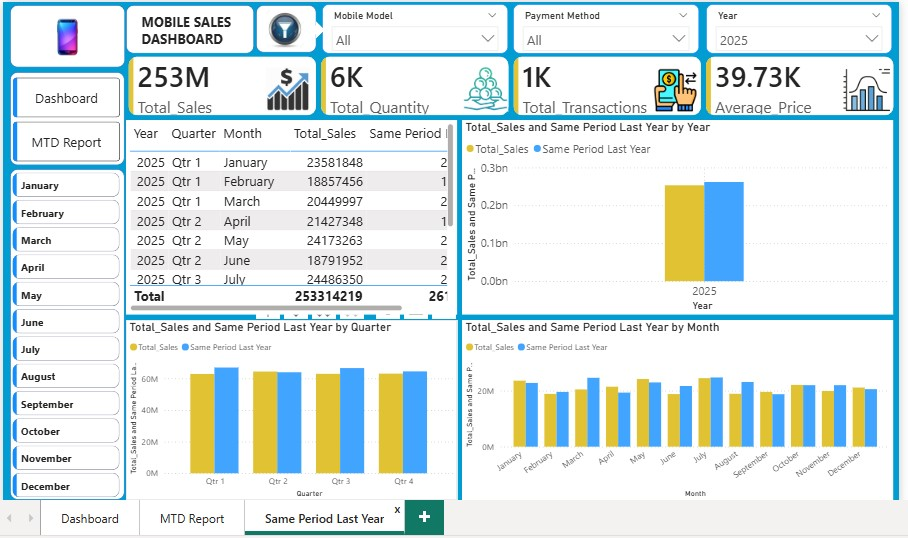

Layout of this report page (visuals, bound fields, positions):
{"tool":"powerbi","page":{"name":"Same Period Last Year","canvas":[1280,720],"ordinal":2},"visuals":[{"type":"shape","box":[9.9,4.3,164.4,89.3],"z":0},{"type":"image","box":[19,6,147,92],"z":1000},{"type":"cardVisual","fields":{"Data":["Sales_Data.Total_Sales","Sales_Data.Total_Quantity","Sales_Data.Total_Transactions","Sales_Data.Average_Price"]},"box":[174.3,72.3,1105.5,95],"z":2000},{"type":"image","box":[369.9,93.5,73.7,63.8],"z":3000},{"type":"image","box":[653.4,92.1,73.7,65.2],"z":4000},{"type":"image","box":[928.3,86.5,63.8,78],"z":5000},{"type":"image","box":[1192,90.7,85,70.9],"z":6000},{"type":"slicer","fields":{"Values":["Sales_Data.Mobile Model"]},"box":[456.4,2.8,266.5,70.9],"z":7000},{"type":"slicer","fields":{"Values":["Sales_Data.Payment Method"]},"box":[728.5,2.8,266.5,70.9],"z":8000},{"type":"slicer","fields":{"Values":["Custom_Calender.Date.Variation.Date Hierarchy.Year"]},"box":[1004.9,2.8,266.5,70.9],"z":9000},{"type":"shape","box":[361.4,4.3,86.5,68],"z":10000},{"type":"image","box":[364.3,9.9,76.5,56.7],"z":11000},{"type":"shape","box":[426.6,26.9,32.6,25.5],"z":12000},{"type":"shape","box":[175.7,4.3,183,69.4],"z":13000},{"type":"textbox","box":[192.8,9.9,150.2,59.5],"z":14000},{"type":"clusteredColumnChart","fields":{"Category":["Custom_Calender.Date.Variation.Date Hierarchy.Year","Custom_Calender.Date.Variation.Date Hierarchy.Quarter","Custom_Calender.Date.Variation.Date Hierarchy.Month","Custom_Calender.Date.Variation.Date Hierarchy.Day"],"Y":["Sales_Data.Total_Sales","Sales_Data.Same Period Last Year"]},"box":[655.1,168.1,615.9,278.3],"z":15000},{"type":"clusteredColumnChart","fields":{"Y":["Sales_Data.Total_Sales","Sales_Data.Same Period Last Year"],"Category":["Custom_Calender.Date.Variation.Date Hierarchy.Year","Custom_Calender.Date.Variation.Date Hierarchy.Quarter","Custom_Calender.Date.Variation.Date Hierarchy.Month","Custom_Calender.Date.Variation.Date Hierarchy.Day"]},"box":[655.1,453.6,615.9,258],"z":16000},{"type":"clusteredColumnChart","fields":{"Category":["Custom_Calender.Date.Variation.Date Hierarchy.Year","Custom_Calender.Date.Variation.Date Hierarchy.Quarter","Custom_Calender.Date.Variation.Date Hierarchy.Month","Custom_Calender.Date.Variation.Date Hierarchy.Day"],"Y":["Sales_Data.Total_Sales","Sales_Data.Same Period Last Year"]},"box":[175.4,453.6,473.9,258],"z":17000},{"type":"shape","box":[10.1,239.1,163.8,472.5],"z":18000},{"type":"shape","box":[10.1,100,163.8,133.3],"z":19000},{"type":"advancedSlicerVisual","fields":{"Values":["Custom_Calender.Date.Variation.Date Hierarchy.Month"]},"box":[8.7,239.1,163.8,478.3],"z":20000},{"type":"tableEx","fields":{"Values":["Custom_Calender.Date.Variation.Date Hierarchy.Year","Custom_Calender.Date.Variation.Date Hierarchy.Quarter","Custom_Calender.Date.Variation.Date Hierarchy.Month","Sales_Data.Total_Sales","Sales_Data.Same Period Last Year"]},"box":[175.7,168.7,473.4,277.8],"z":21000},{"type":"pageNavigator","box":[14.2,103.5,153.1,126.1],"z":21001}]}

Visuals, with their boxes in screenshot pixels (x1, y1, x2, y2):
shape: locate(9, 3, 124, 65)
image: locate(16, 4, 118, 69)
cardVisual - Sales_Data.Total_Sales x Sales_Data.Total_Quantity: locate(124, 51, 898, 117)
image: locate(261, 65, 313, 110)
image: locate(459, 64, 511, 110)
image: locate(652, 61, 696, 115)
image: locate(836, 63, 896, 113)
slicer - Sales_Data.Mobile Model: locate(322, 2, 508, 52)
slicer - Sales_Data.Payment Method: locate(512, 2, 698, 52)
slicer - Custom_Calender.Date.Variation.Date Hierarchy.Year: locate(705, 2, 892, 52)
shape: locate(255, 3, 316, 51)
image: locate(257, 7, 311, 47)
shape: locate(301, 19, 324, 37)
shape: locate(125, 3, 253, 52)
textbox: locate(137, 7, 242, 49)
clusteredColumnChart - Custom_Calender.Date.Variation.Date Hierarchy.Year x Custom_Calender.Date.Variation.Date Hierarchy.Quarter: locate(461, 118, 892, 312)
clusteredColumnChart - Sales_Data.Total_Sales x Sales_Data.Same Period Last Year: locate(461, 317, 892, 498)
clusteredColumnChart - Custom_Calender.Date.Variation.Date Hierarchy.Year x Custom_Calender.Date.Variation.Date Hierarchy.Quarter: locate(125, 317, 457, 498)
shape: locate(9, 167, 124, 498)
shape: locate(9, 70, 124, 163)
advancedSlicerVisual - Custom_Calender.Date.Variation.Date Hierarchy.Month: locate(8, 167, 123, 502)
tableEx - Custom_Calender.Date.Variation.Date Hierarchy.Year x Custom_Calender.Date.Variation.Date Hierarchy.Quarter: locate(125, 118, 456, 312)
pageNavigator: locate(12, 72, 119, 161)
